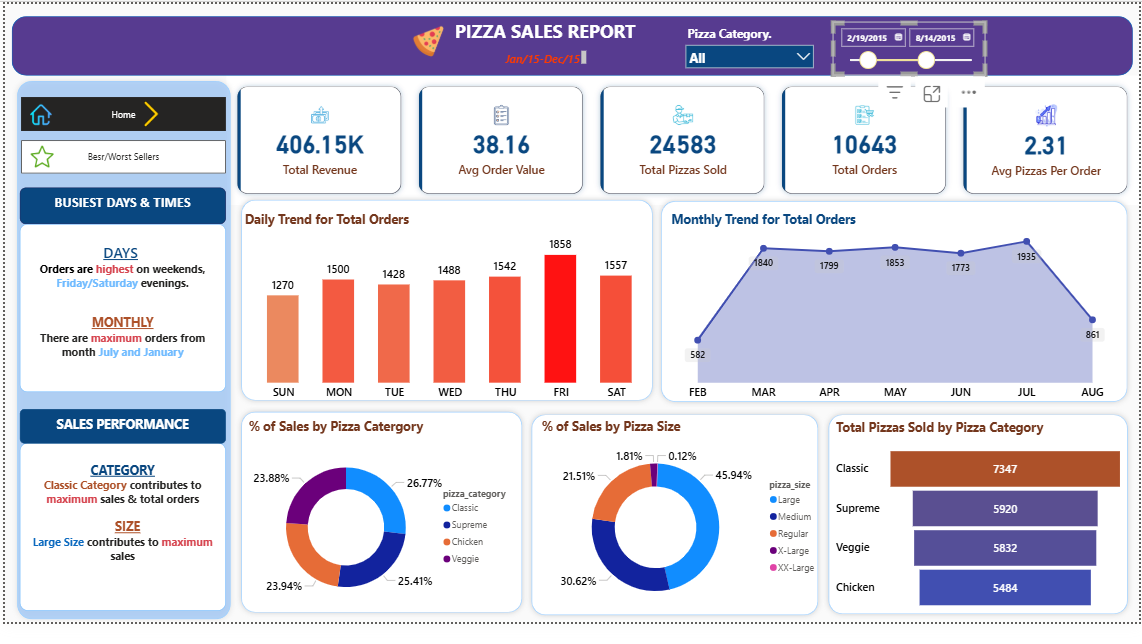

This screenshot's page, from the dashboard's own definition file:
{"tool":"powerbi","page":{"name":"Home","canvas":[1680,915],"ordinal":0},"visuals":[{"type":"cardVisual","fields":{"Data":["pizza_db pizza_sales.Total Revenue","pizza_db pizza_sales.Avg Order Value","pizza_db pizza_sales.Total Pizzas Sold","pizza_db pizza_sales.Total Orders","pizza_db pizza_sales.Avg Pizzas Per Order"]},"box":[327.1,105.1,1352.5,191.5],"z":0},{"type":"shape","box":[10.2,18.6,1661,88.1],"z":1000},{"type":"textbox","box":[645,15,308.3,48.3],"z":2000},{"type":"textbox","box":[735,63.3,130,30],"z":3000},{"type":"image","box":[598.3,31.7,58.3,46.7],"z":4000},{"type":"shape","box":[342.4,281.4,625.4,313.6],"z":5000},{"type":"columnChart","title":"Daily Trend for Total Orders","fields":{"Category":["pizza_db pizza_sales.Order Day"],"Y":["pizza_db pizza_sales.Total Orders"]},"box":[349.2,305.1,618.6,289.8],"z":6000},{"type":"shape","box":[964.4,283.1,706.8,313.6],"z":7000},{"type":"areaChart","title":"Monthly Trend for Total Orders","fields":{"Category":["pizza_db pizza_sales.Order Month"],"Y":["pizza_db pizza_sales.Total Orders"]},"box":[981.4,305.1,672.9,289.8],"z":8000},{"type":"shape","box":[342.4,596.6,432.2,313.6],"z":9000},{"type":"shape","box":[771.2,600,440.7,313.6],"z":10000},{"type":"shape","box":[1211.9,600,459.3,311.9],"z":11000},{"type":"donutChart","title":"% of Sales by Pizza Catergory","fields":{"Category":["pizza_db pizza_sales.pizza_category"],"Y":["pizza_db pizza_sales.Total Revenue"]},"box":[355.9,611.9,406.8,301.7],"z":12000},{"type":"donutChart","title":"% of Sales by Pizza Size","fields":{"Category":["pizza_db pizza_sales.pizza_size"],"Y":["pizza_db pizza_sales.Total Revenue"]},"box":[789.8,611.9,427.1,301.7],"z":13000},{"type":"funnel","title":"Total Pizzas Sold by Pizza Category","fields":{"Category":["pizza_db pizza_sales.pizza_category"],"Y":["pizza_db pizza_sales.Total Pizzas Sold"]},"box":[1225.4,613.6,435.6,300],"z":14000},{"type":"shape","box":[10.2,105.1,332.2,813.6],"z":15000},{"type":"textbox","box":[22,284.7,305.1,40.7],"z":16000},{"type":"textbox","box":[22,325.4,305.1,249.2],"z":17000},{"type":"textbox","box":[22,650.8,305.1,249.2],"z":18000},{"type":"textbox","box":[22,611.9,305.1,39],"z":19000},{"type":"slicer","fields":{"Values":["pizza_db pizza_sales.pizza_category"]},"box":[998.6,25,209.7,80.6],"z":20000},{"type":"slicer","fields":{"Values":["pizza_db pizza_sales.order_date"]},"box":[1226.4,25,227.8,80.6],"z":21000},{"type":"pageNavigator","box":[23.7,137.3,303.4,50.8],"z":22000},{"type":"image","box":[194,144,45,38],"z":23000},{"type":"pageNavigator","box":[23.7,201.7,303.4,49.2],"z":24000},{"type":"image","box":[24,147,59,32],"z":25000},{"type":"image","box":[37,206,34,40],"z":26000}]}

Visuals, with their boxes on the page's 1680x915 design canvas (x1, y1, x2, y2). These are canvas units, not pixel positions in the 1142x644 screenshot, which may show the page scaled, cropped or inside an application window:
cardVisual - pizza_db pizza_sales.Total Revenue x pizza_db pizza_sales.Avg Order Value: BBox(327, 105, 1680, 297)
shape: BBox(10, 19, 1671, 107)
textbox: BBox(645, 15, 953, 63)
textbox: BBox(735, 63, 865, 93)
image: BBox(598, 32, 657, 78)
shape: BBox(342, 281, 968, 595)
"Daily Trend for Total Orders" columnChart: BBox(349, 305, 968, 595)
shape: BBox(964, 283, 1671, 597)
"Monthly Trend for Total Orders" areaChart: BBox(981, 305, 1654, 595)
shape: BBox(342, 597, 775, 910)
shape: BBox(771, 600, 1212, 914)
shape: BBox(1212, 600, 1671, 912)
"% of Sales by Pizza Catergory" donutChart: BBox(356, 612, 763, 914)
"% of Sales by Pizza Size" donutChart: BBox(790, 612, 1217, 914)
"Total Pizzas Sold by Pizza Category" funnel: BBox(1225, 614, 1661, 914)
shape: BBox(10, 105, 342, 919)
textbox: BBox(22, 285, 327, 325)
textbox: BBox(22, 325, 327, 575)
textbox: BBox(22, 651, 327, 900)
textbox: BBox(22, 612, 327, 651)
slicer - pizza_db pizza_sales.pizza_category: BBox(999, 25, 1208, 106)
slicer - pizza_db pizza_sales.order_date: BBox(1226, 25, 1454, 106)
pageNavigator: BBox(24, 137, 327, 188)
image: BBox(194, 144, 239, 182)
pageNavigator: BBox(24, 202, 327, 251)
image: BBox(24, 147, 83, 179)
image: BBox(37, 206, 71, 246)
